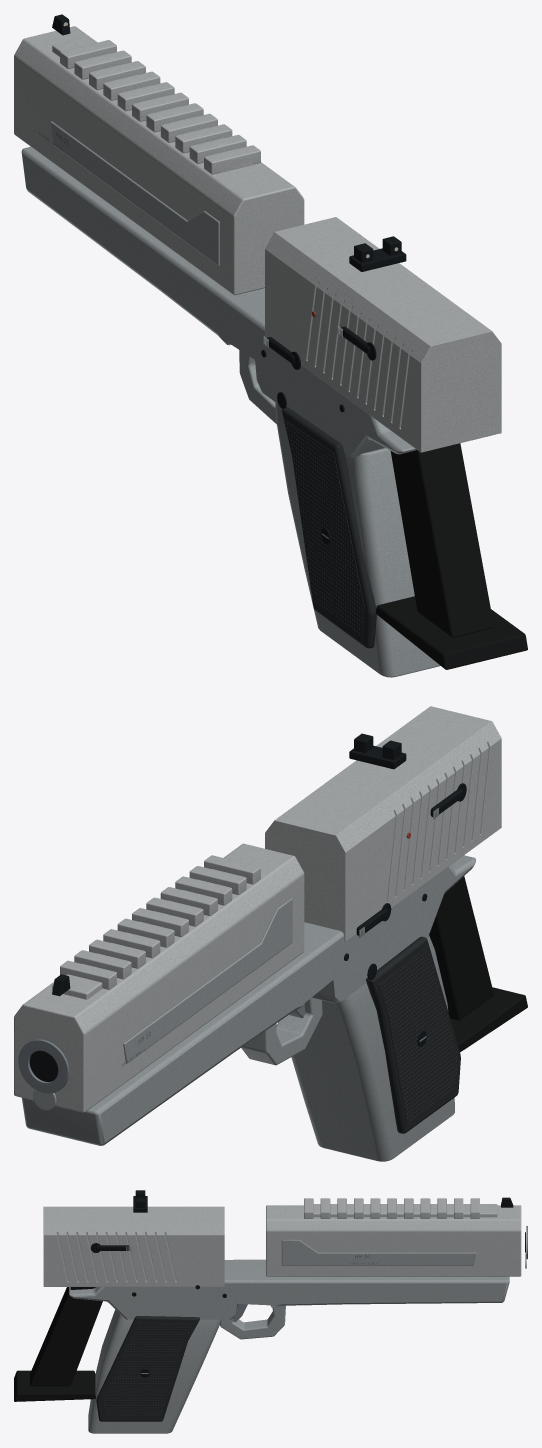
Rendered from weapon-73-B3NuElVp.glb.
3 renders of one model, top to bottom at view 1: azimuth 30°, elevation 25°; view 2: azimuth 150°, elevation 25°; view 3: azimuth 270°, elevation 25°, orthographic. The views are drawn at different scales.
Parts seen in each view (by area): view 1: salient_weapon_body, salient_weapon_bolt, salient_weapon_magazine, salient_weapon_iron; view 2: salient_weapon_body, salient_weapon_bolt, salient_weapon_magazine, salient_weapon_iron; view 3: salient_weapon_body, salient_weapon_bolt, salient_weapon_magazine, salient_weapon_iron.
Part boxes in pixels (x1,y1,x2,y2): salient_weapon_body: (14,26,440,677); salient_weapon_bolt: (265,217,501,452); salient_weapon_magazine: (375,443,527,669); salient_weapon_iron: (52,14,406,271); salient_weapon_body: (14,832,475,1161); salient_weapon_bolt: (265,706,501,941); salient_weapon_magazine: (429,876,527,1052); salient_weapon_iron: (52,733,406,996); salient_weapon_body: (69,1198,527,1433); salient_weapon_bolt: (43,1206,224,1286); salient_weapon_magazine: (14,1287,102,1401); salient_weapon_iron: (133,1190,513,1212).
Bounding box in the file's own units: 0.0413 × 0.1586 × 0.3239.
Materials: 14 (6 with a texture image).
